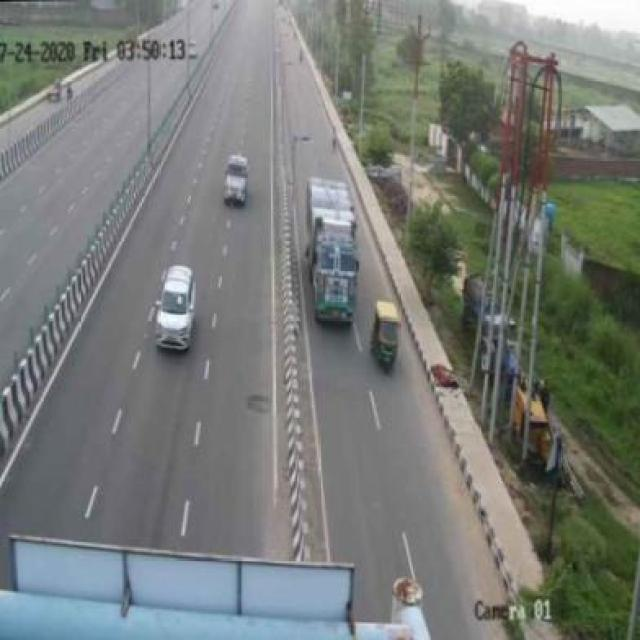car: (152, 258, 199, 354), (214, 146, 255, 202)
